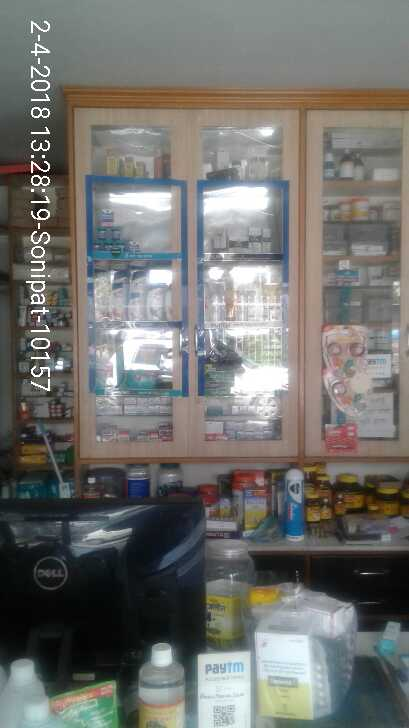vicks: (93, 207, 143, 254), (283, 470, 305, 542)
